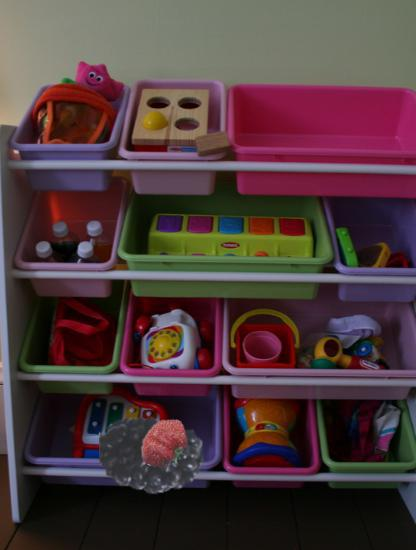Mulberry: (99, 402, 207, 510)
Strawberry: (139, 417, 193, 471)
